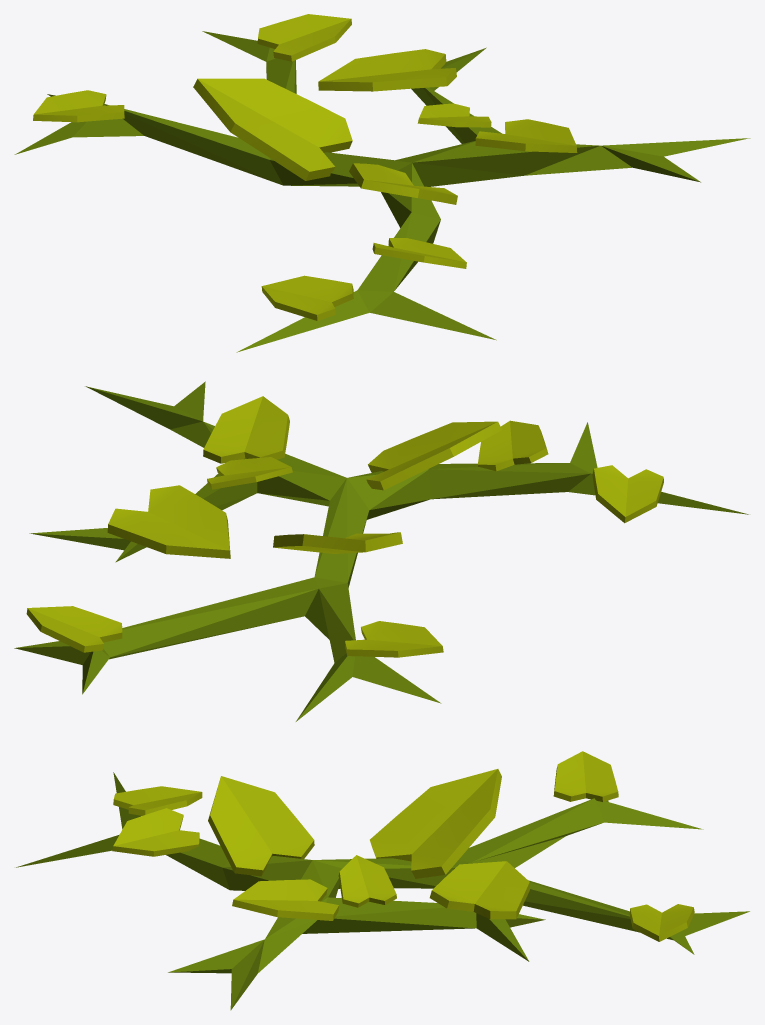
File: Ivy.fbx
3 views of the same model, one above another, from view 1: azimuth 30°, elevation 25°; view 2: azimuth 150°, elevation 25°; view 3: azimuth 270°, elevation 25° (orthographic). The views are drawn at different scales.
Parts seen in each view (by area): view 1: Ivy; view 2: Ivy; view 3: Ivy.
Boxes of the visible parts, <box> form: Ivy: <box>14,14,750,352</box>; Ivy: <box>14,381,748,721</box>; Ivy: <box>16,751,749,1010</box>.
Size of the model in its own units: 89.13 by 14.35 by 104.
